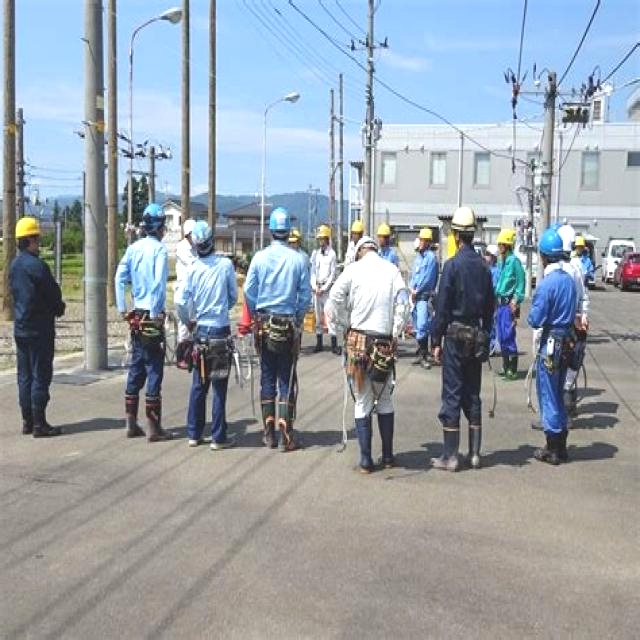Sin_Chaleco: (248, 241, 308, 313), (439, 253, 494, 325), (349, 257, 396, 332)
